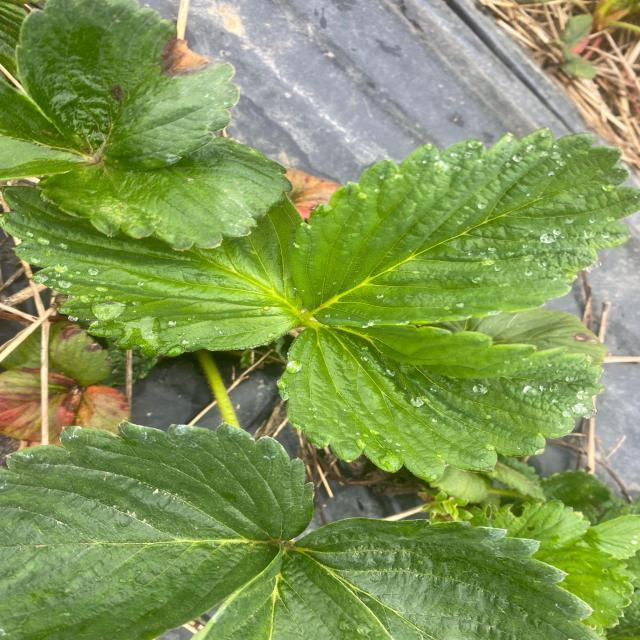flower: (45, 109, 637, 479), (0, 407, 586, 640), (0, 0, 298, 264), (0, 5, 233, 317)
